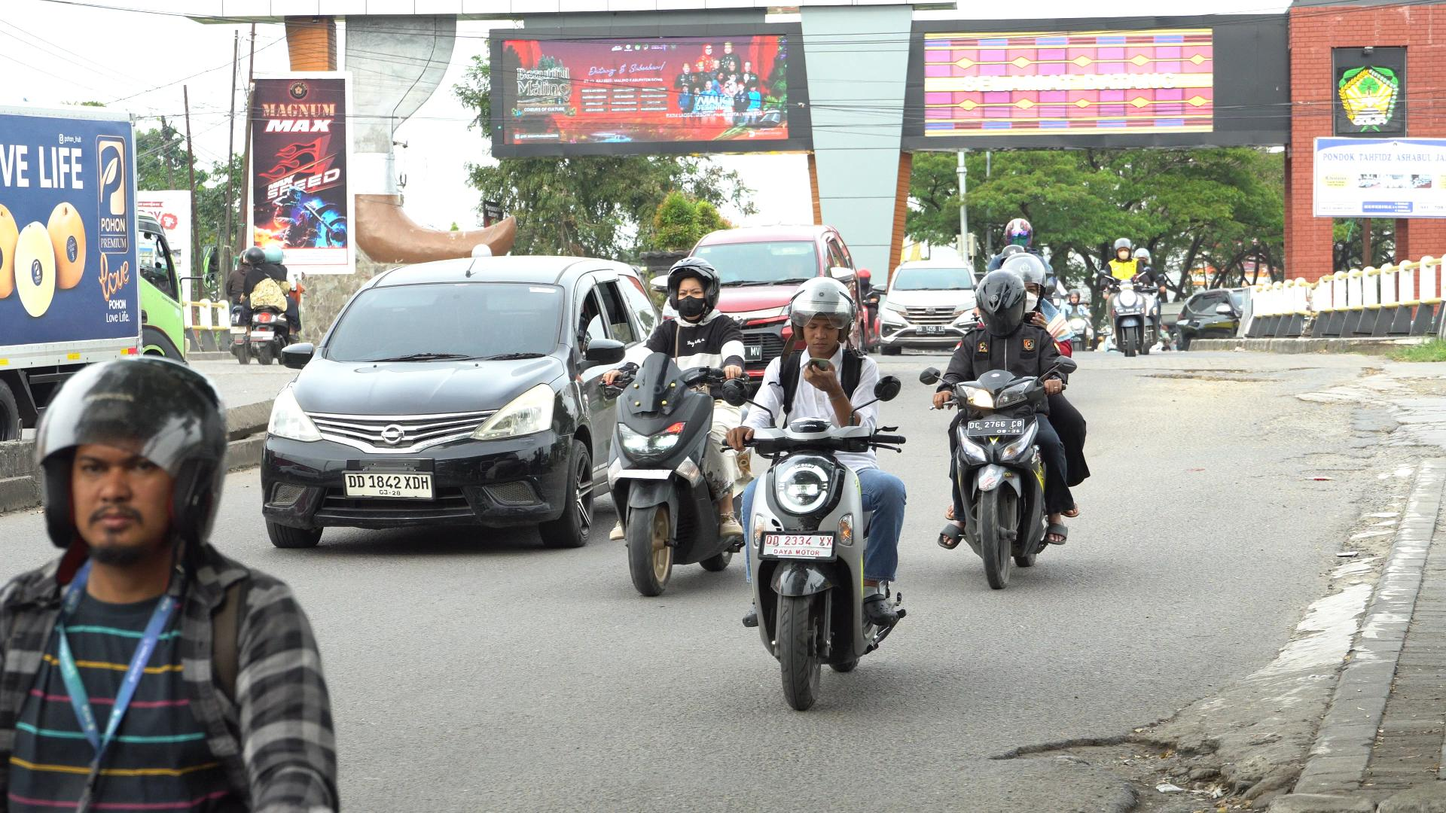number-plate: (759, 526, 835, 563), (959, 417, 1024, 437)
